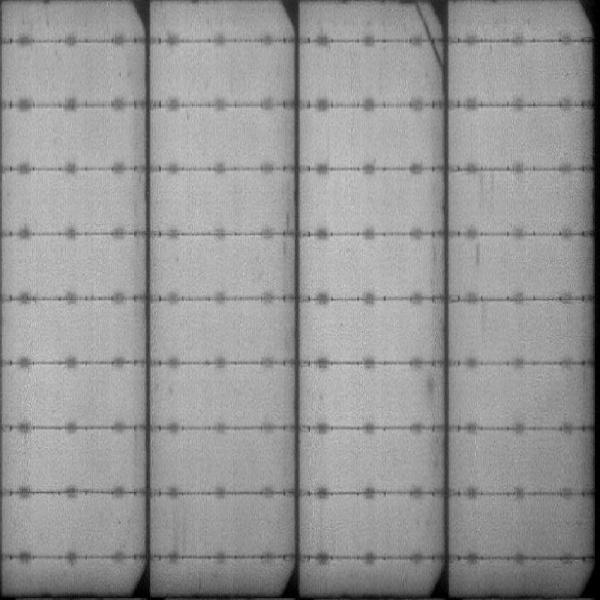scratch: (424, 40, 443, 73), (413, 4, 429, 37)
